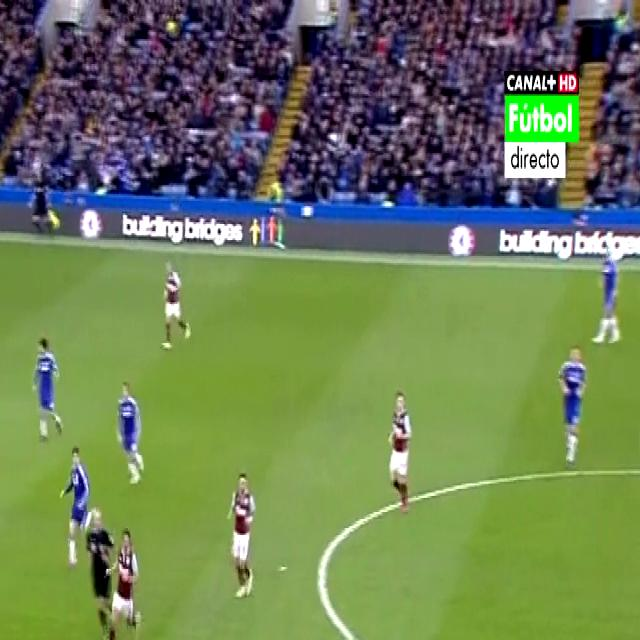referee: (80, 501, 115, 640), (23, 148, 62, 244)
soccer-player: (223, 459, 261, 606), (548, 336, 589, 472), (55, 436, 96, 570), (382, 375, 418, 520), (27, 319, 67, 448), (154, 247, 196, 361), (108, 368, 147, 486), (110, 522, 147, 640), (593, 230, 625, 351)
